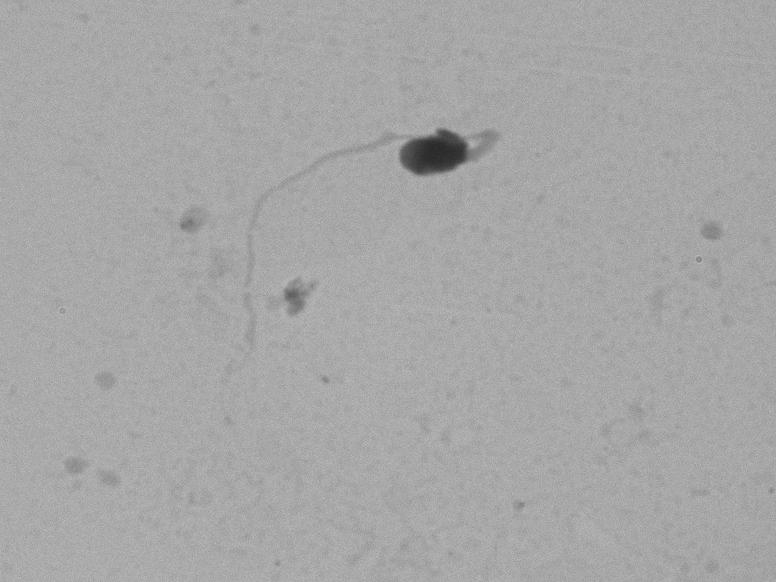Abnormal: (209, 69, 520, 368)
